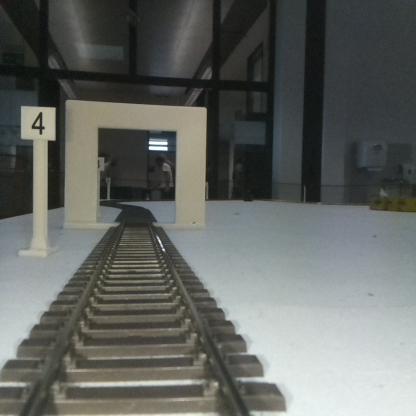white-info-4: (21, 107, 55, 254)
